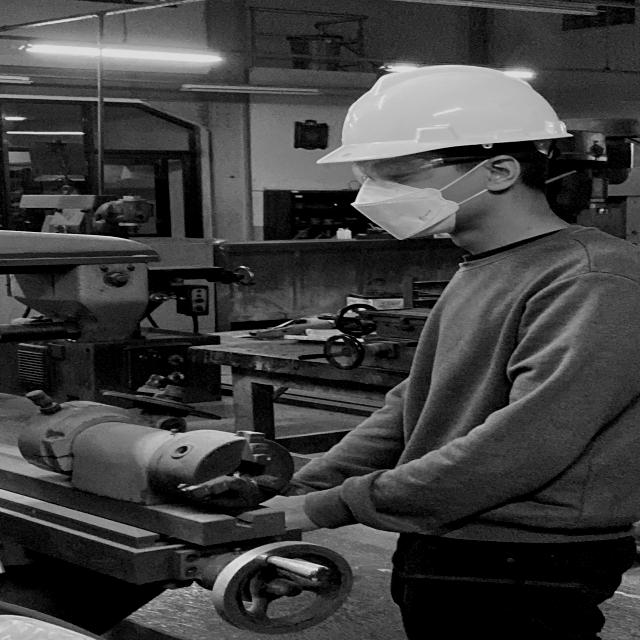face_mask: (339, 149, 482, 244)
glasses: (358, 148, 509, 189)
head_helmet: (317, 60, 580, 165)
person: (218, 60, 640, 640)
